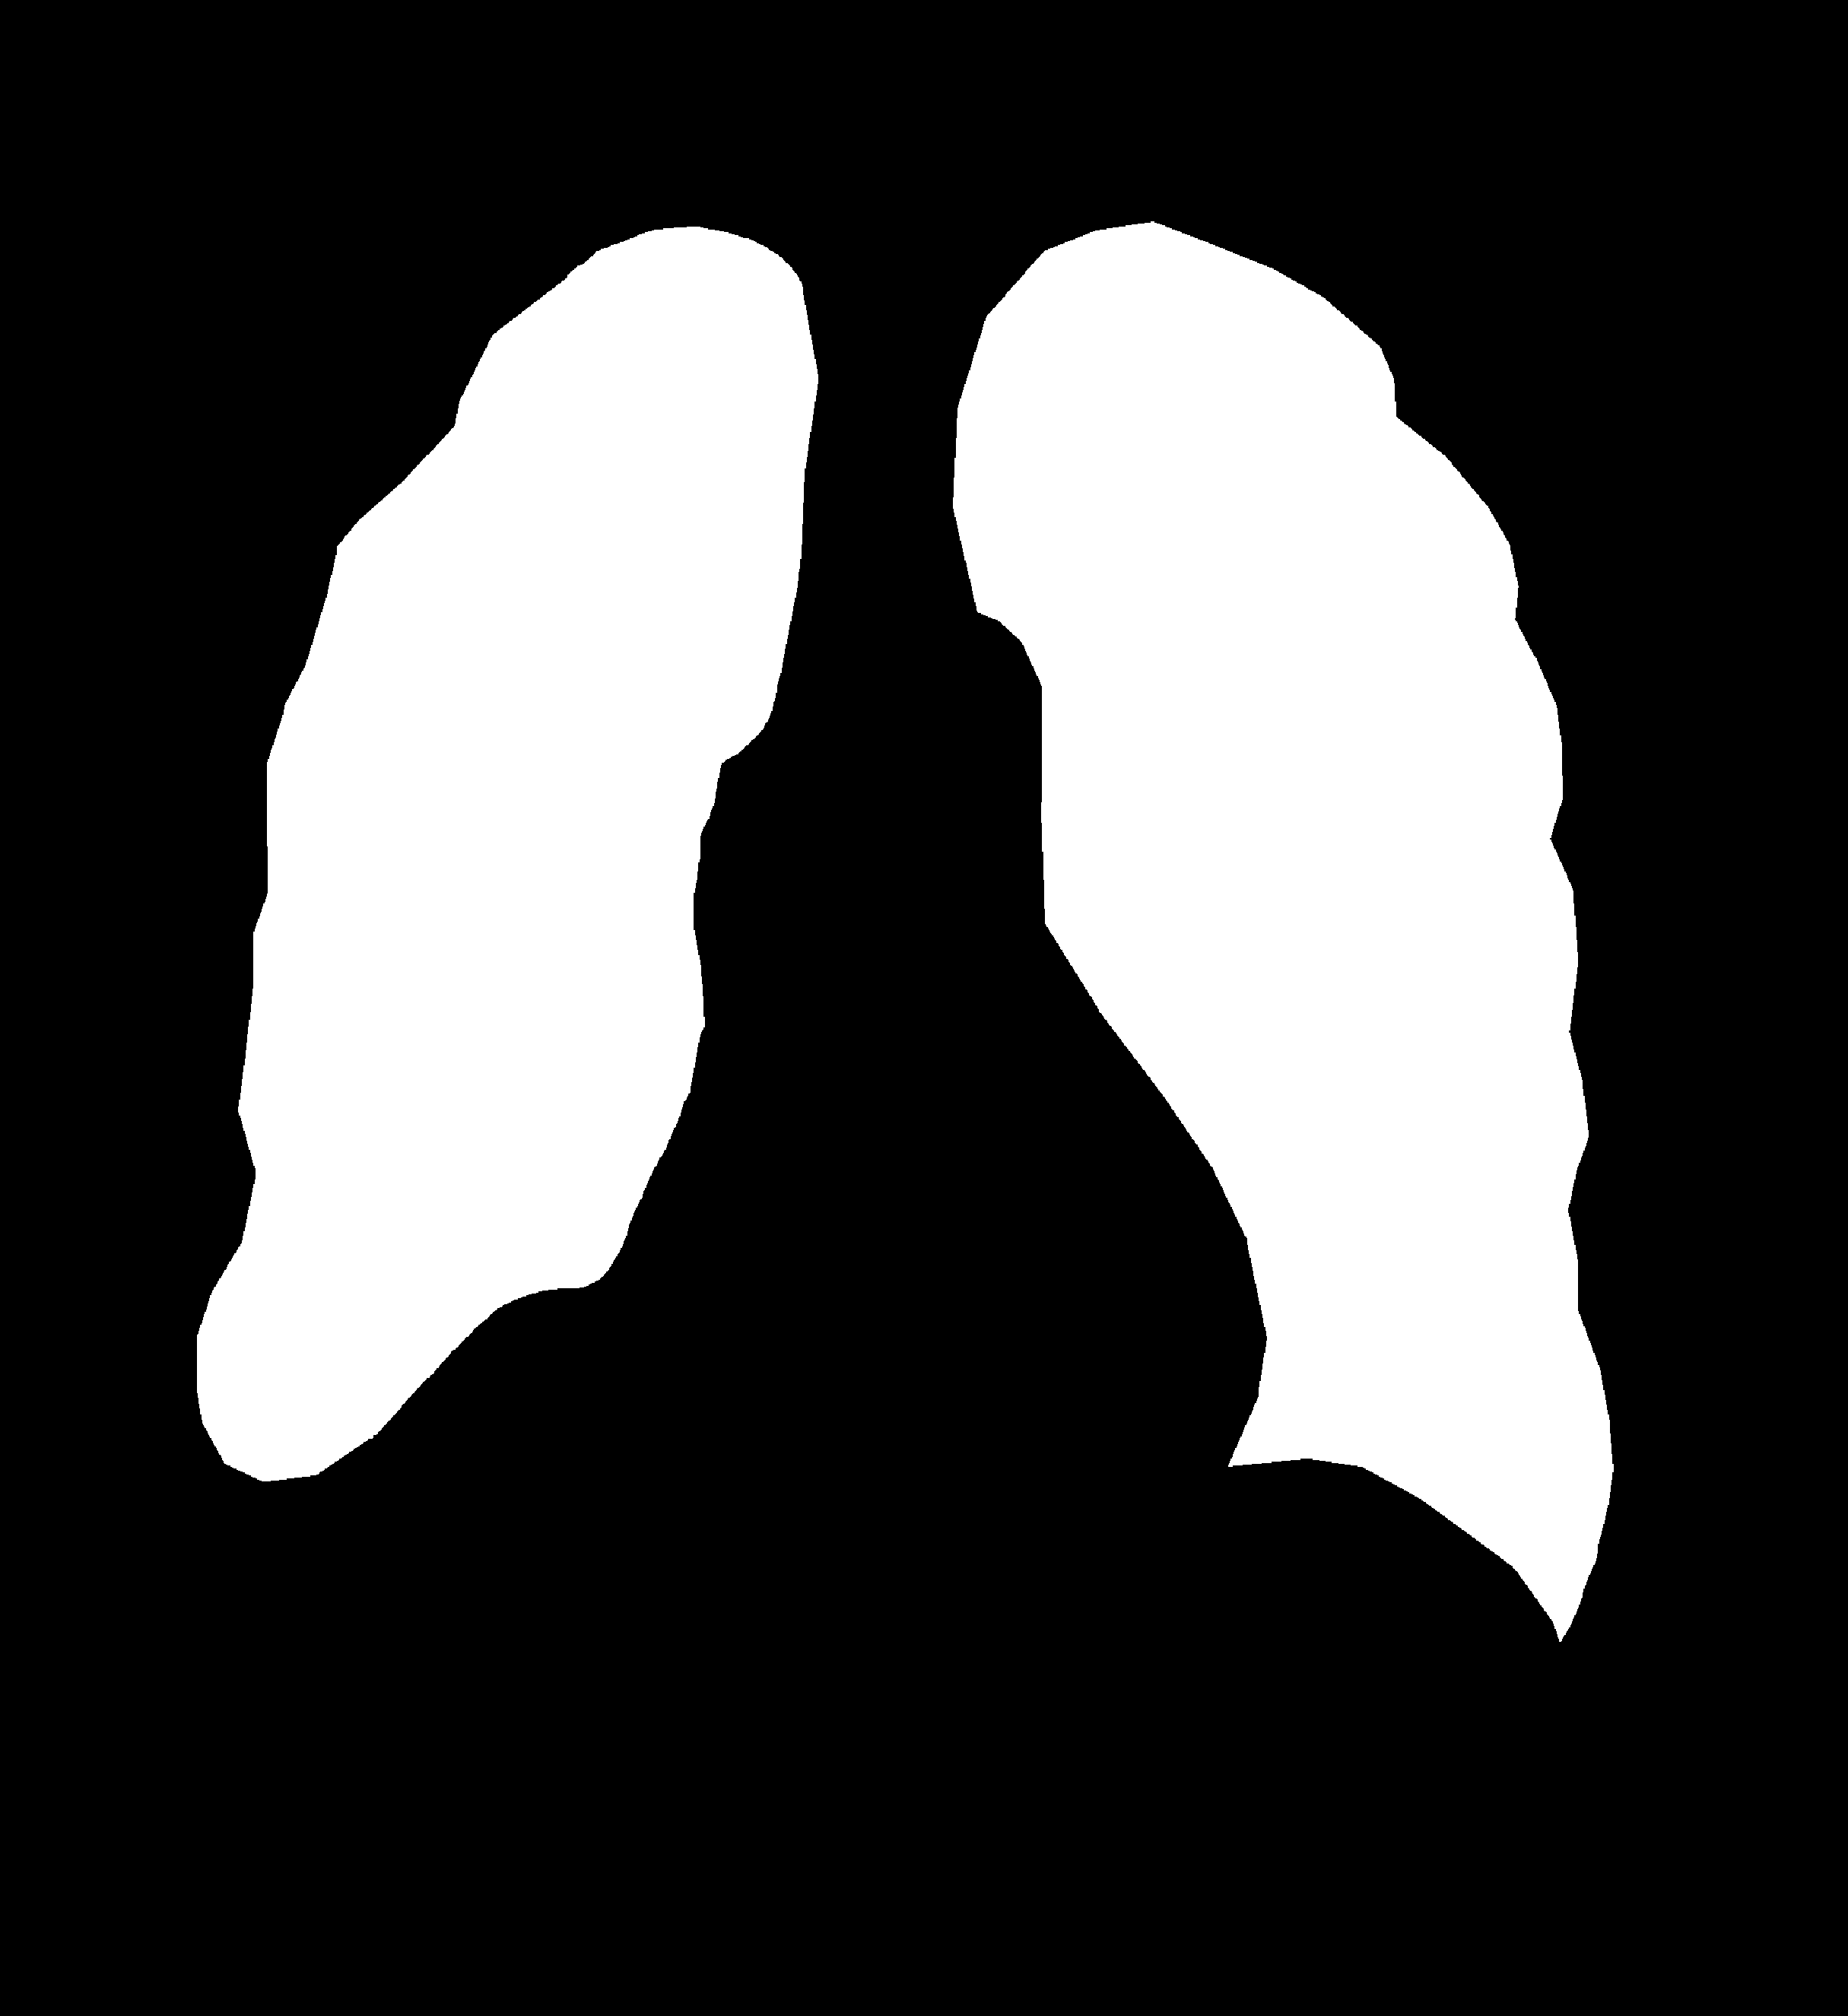heart: (611, 1012, 1267, 1552)
left_lung: (197, 227, 817, 1480)
right_lung: (952, 221, 1613, 1642)
